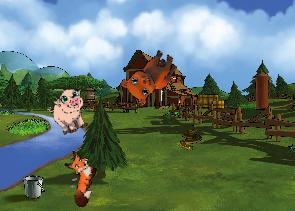bear: (116, 40, 181, 110)
fox: (54, 149, 102, 208)
pig: (44, 85, 95, 138)
